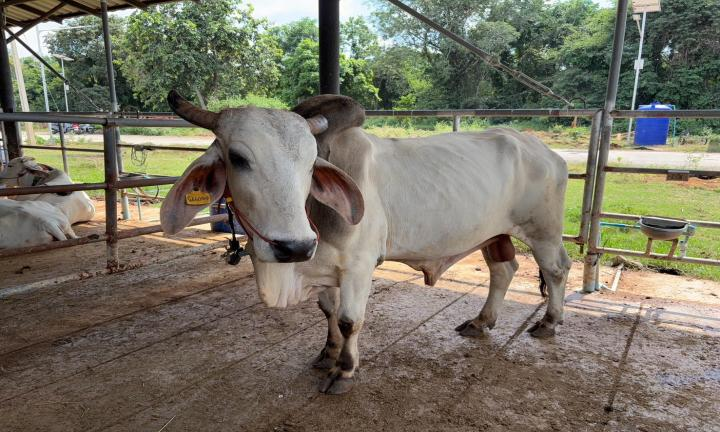Brahman: (161, 90, 571, 393)
